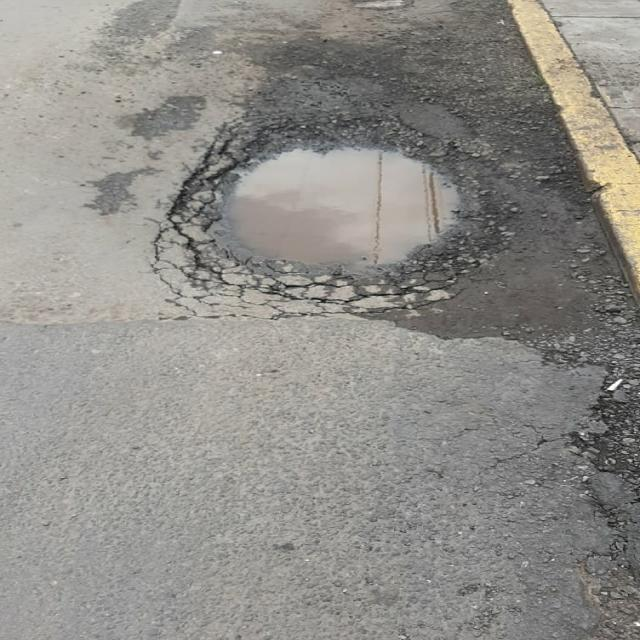Pothole: (156, 112, 562, 345)
